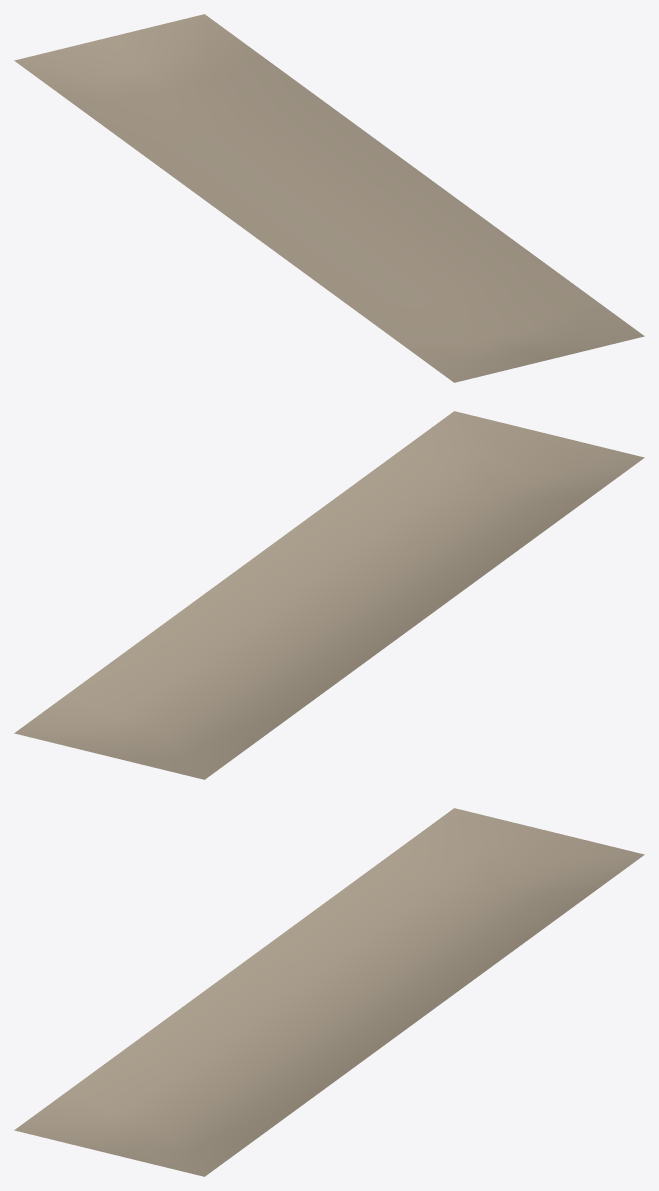
File: SM_Net_Cieling_1x4M.fbx
3 views of the same model, one above another, from view 1: azimuth 30°, elevation 25°; view 2: azimuth 150°, elevation 25°; view 3: azimuth 330°, elevation 25° (orthographic).
Visible parts, largest first — view 1: Net_Cieling_1x4; view 2: Net_Cieling_1x4; view 3: Net_Cieling_1x4.
Part boxes in pixels (bbox=[...]): Net_Cieling_1x4: bbox=[14, 14, 644, 382]; Net_Cieling_1x4: bbox=[14, 411, 644, 779]; Net_Cieling_1x4: bbox=[14, 808, 644, 1176].
Bounding box in the file's own units: 100 × 8.44 × 400.
